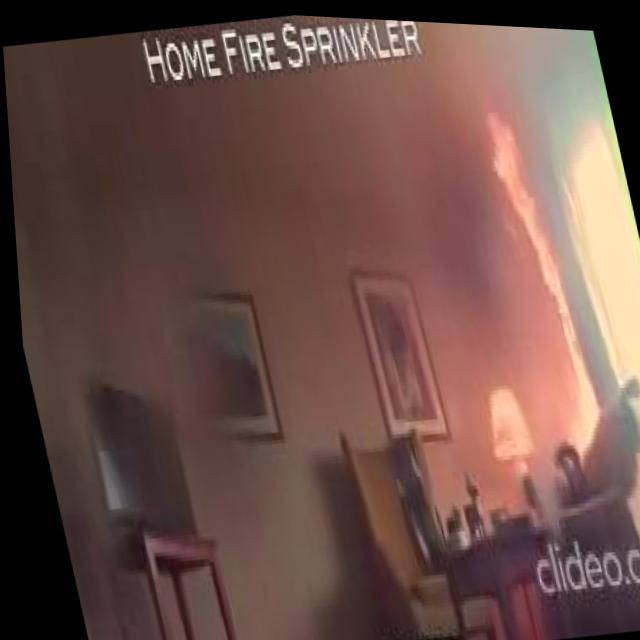fire: (477, 93, 602, 448)
